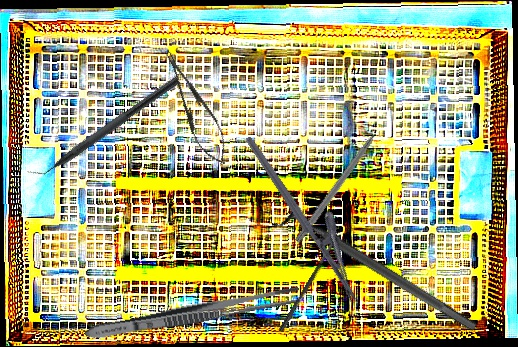Chopper: (25, 66, 181, 187)
Dressing Forceps: (83, 282, 302, 346)
Fixation Ring: (270, 195, 485, 343)
Hook Surgical: (294, 118, 389, 245)
Needle Holder: (244, 121, 380, 305), (155, 46, 237, 171)
Surgical Spoon: (278, 232, 342, 333)
